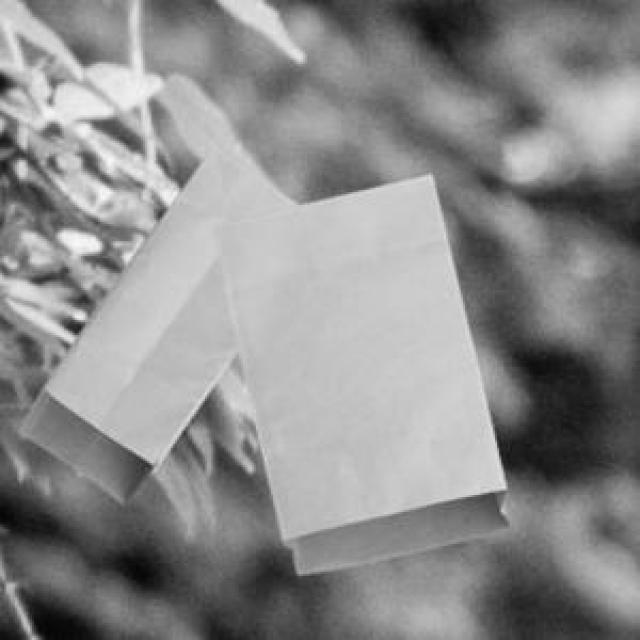paper: (211, 171, 504, 570), (17, 143, 294, 499)
